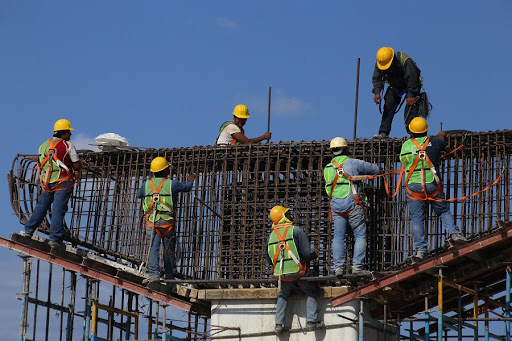casco: (376, 47, 395, 72), (269, 205, 291, 225), (407, 116, 429, 134), (149, 156, 172, 173), (52, 118, 76, 131), (232, 104, 251, 119), (329, 136, 349, 149)
